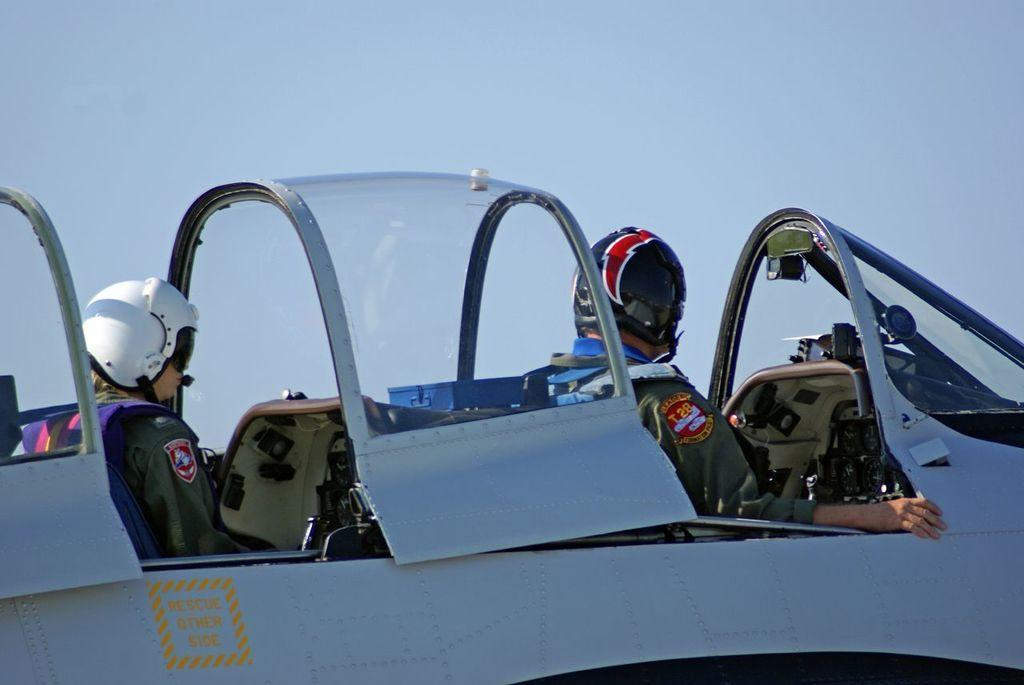helmet: (571, 226, 688, 354), (79, 277, 199, 393)
